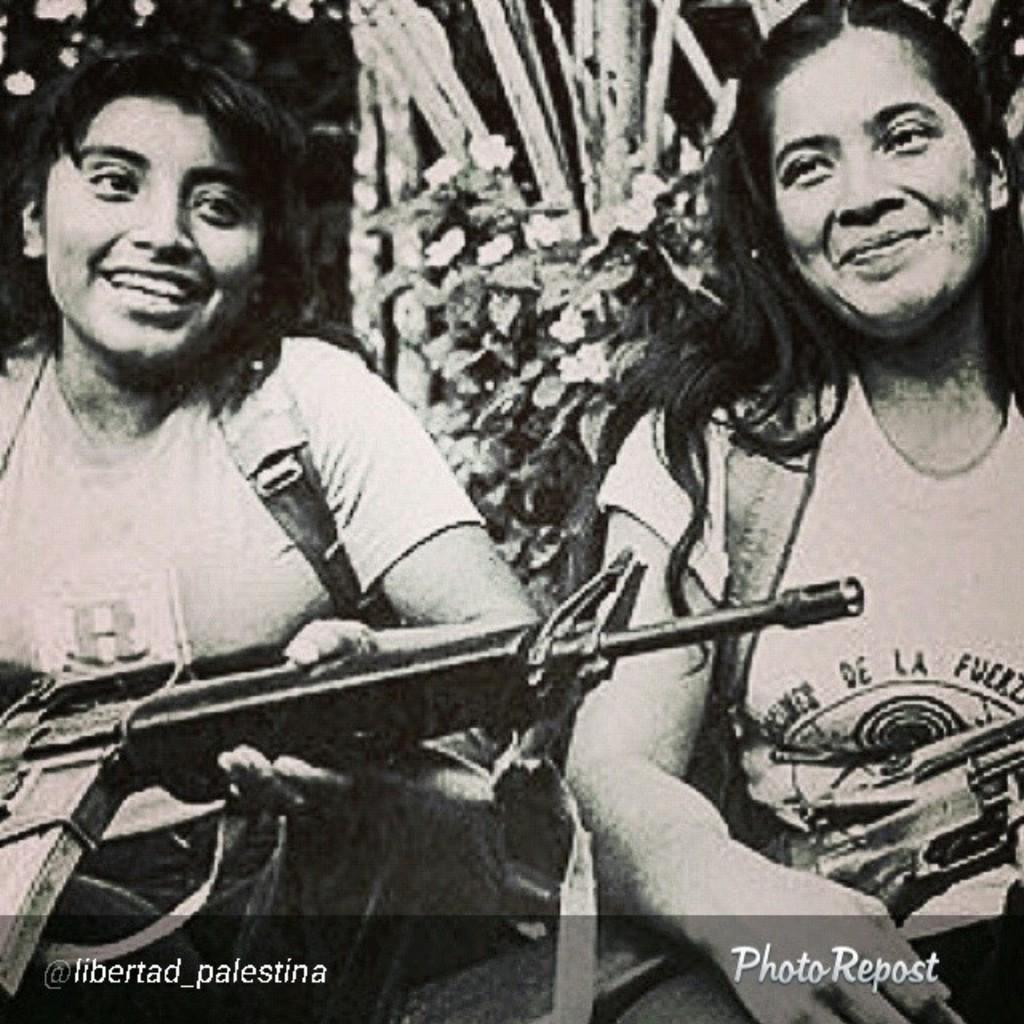Rifle: (0, 544, 866, 995), (384, 702, 1022, 1022)
